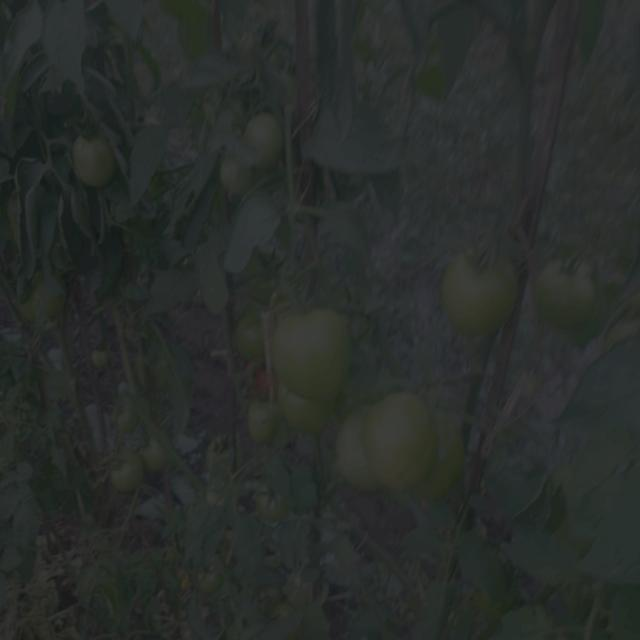tomato: (230, 290, 337, 432), (343, 393, 464, 511), (549, 458, 616, 568), (446, 239, 517, 342), (535, 245, 606, 334), (6, 268, 67, 333), (237, 113, 296, 175), (108, 446, 173, 499), (8, 188, 50, 253), (268, 577, 315, 634), (137, 349, 187, 396), (76, 134, 118, 189), (203, 437, 251, 472), (252, 484, 289, 527), (196, 555, 228, 596), (112, 402, 137, 433), (91, 345, 111, 372)
